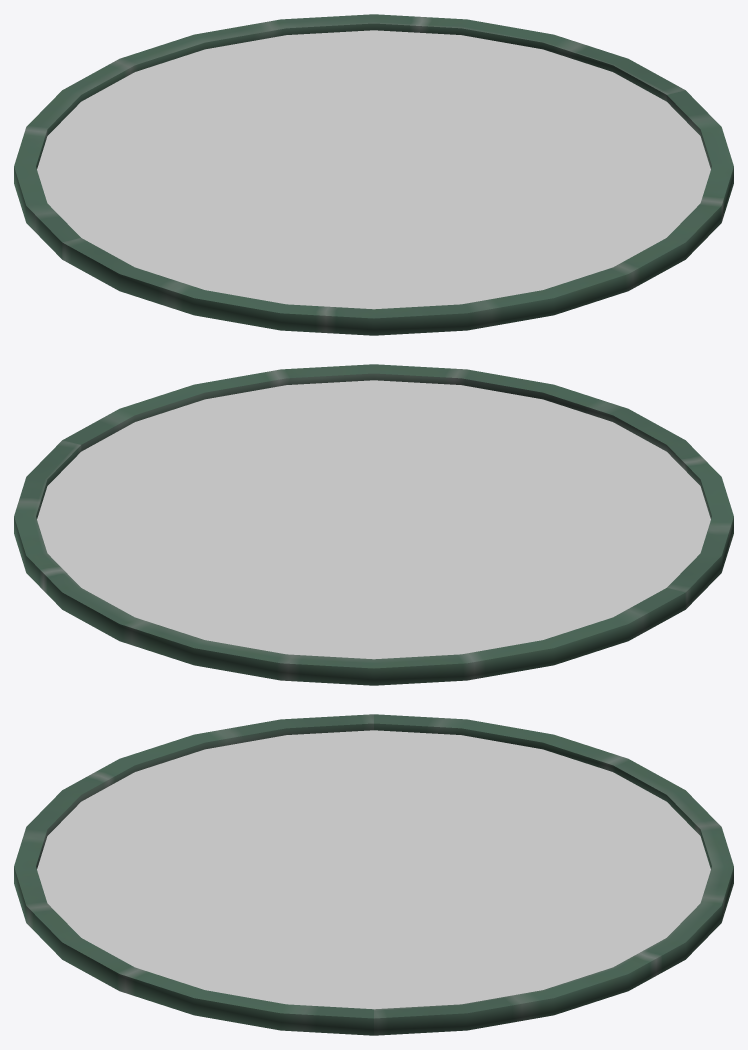
The model's file is Pool.fbx.
The picture shows the model from 3 angles, top to bottom: view 1: azimuth 30°, elevation 25°; view 2: azimuth 150°, elevation 25°; view 3: azimuth 270°, elevation 25°; orthographic projection.
Visible parts, largest first — view 1: Pool; view 2: Pool; view 3: Pool.
Part boxes in pixels (x1,y1,x2,y2): Pool: [14, 14, 733, 335]; Pool: [14, 364, 733, 685]; Pool: [14, 714, 733, 1035].
Bounding box in the file's own units: 1893 × 50 × 1893.
